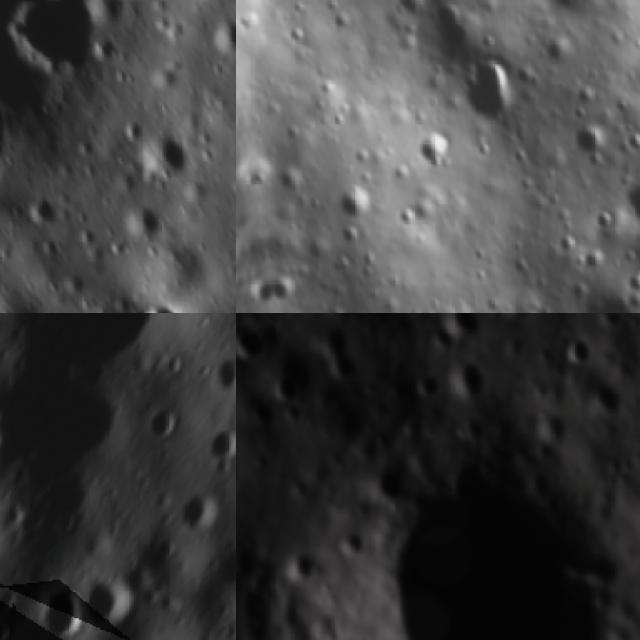crater: (363, 441, 619, 640), (0, 0, 160, 123), (0, 313, 210, 404), (0, 33, 43, 232), (453, 44, 530, 136), (125, 118, 208, 202), (406, 0, 486, 69), (66, 567, 141, 640), (25, 573, 99, 640), (118, 196, 181, 258), (15, 184, 76, 242), (322, 177, 380, 235), (192, 410, 236, 482), (557, 118, 614, 170), (195, 3, 236, 74), (172, 484, 224, 539), (608, 158, 640, 239), (398, 124, 449, 174), (201, 538, 236, 607), (444, 355, 487, 406), (125, 284, 196, 313), (576, 282, 636, 313), (204, 345, 236, 401), (236, 320, 273, 368), (138, 405, 180, 445), (311, 322, 352, 360), (372, 461, 408, 503), (242, 392, 278, 432), (589, 380, 628, 416), (562, 330, 598, 369), (433, 313, 480, 341), (280, 550, 317, 585), (410, 370, 440, 408), (267, 372, 299, 406), (324, 355, 359, 386), (519, 303, 563, 313), (500, 313, 536, 323)
